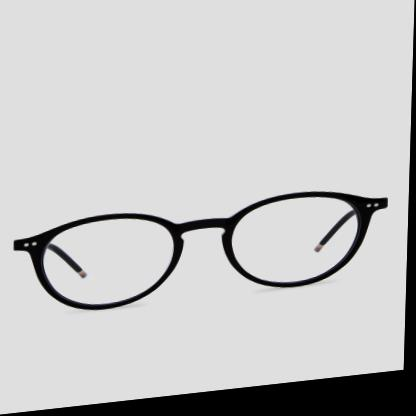Spectacles: (12, 190, 391, 319)
